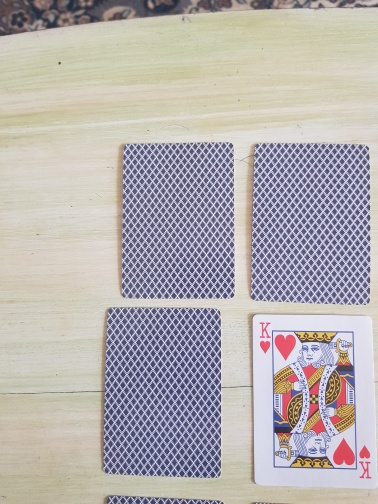king: (251, 312, 378, 488)
